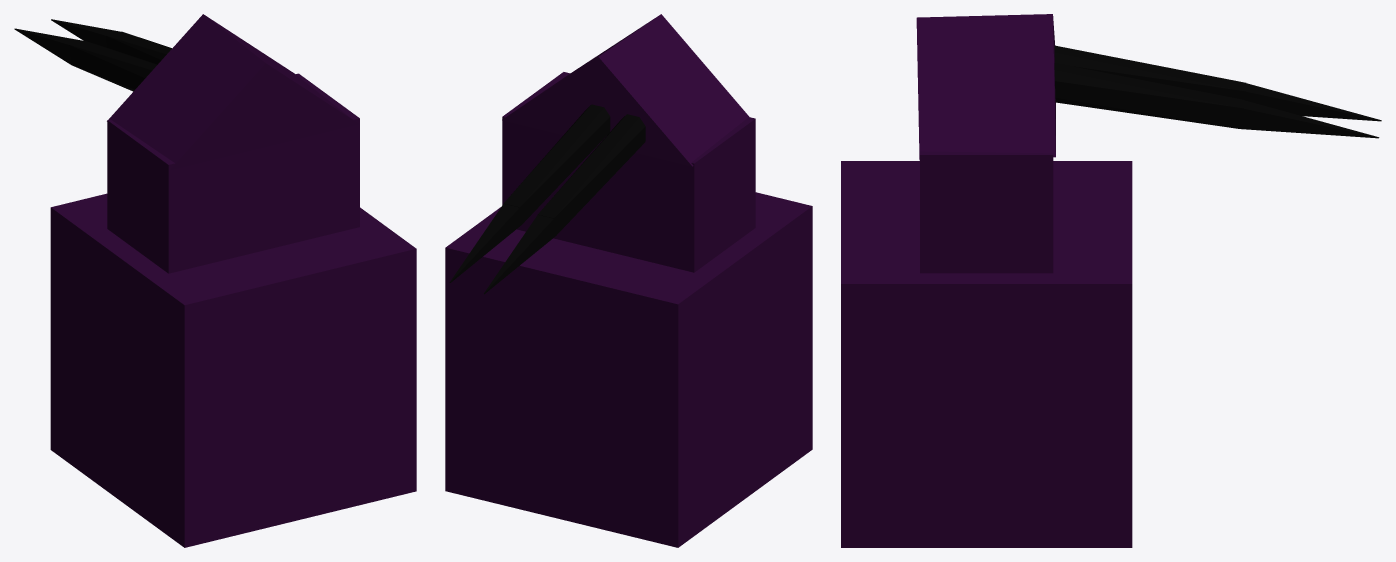
File: protectiontower1_level2.fbx
3 views of the same model, side by side, from view 1: azimuth 30°, elevation 25°; view 2: azimuth 150°, elevation 25°; view 3: azimuth 270°, elevation 25° (orthographic). The views are drawn at different scales.
Parts seen in each view (by area): view 1: Cube, Cube.001, Cube.002; view 2: Cube, Cube.001, Cube.002; view 3: Cube, Cube.002, Cube.001.
Boxes of the visible parts, x1=… form: Cube: x1=50, y1=14, x2=416, y2=547; Cube.001: x1=14, y1=28, x2=157, y2=91; Cube.002: x1=51, y1=19, x2=171, y2=64; Cube: x1=445, y1=14, x2=812, y2=547; Cube.001: x1=484, y1=114, x2=645, y2=294; Cube.002: x1=449, y1=104, x2=610, y2=282; Cube: x1=841, y1=14, x2=1132, y2=547; Cube.002: x1=1054, y1=63, x2=1379, y2=138; Cube.001: x1=1054, y1=45, x2=1381, y2=121.
Bounding box in the file's own units: 200 × 358 × 371.
